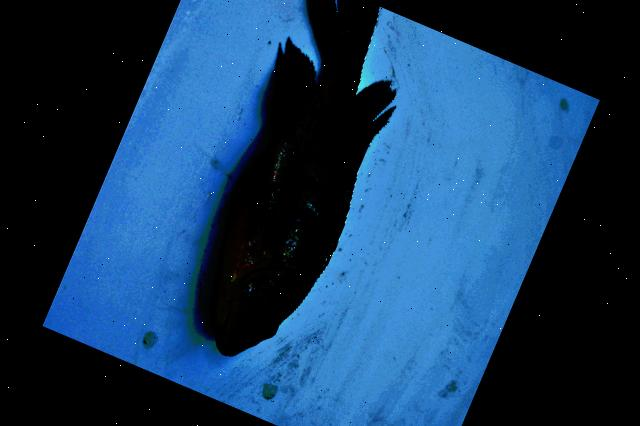Columnaris Disease: (212, 0, 393, 356)
